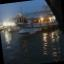fishing boat: (12, 0, 61, 38)
